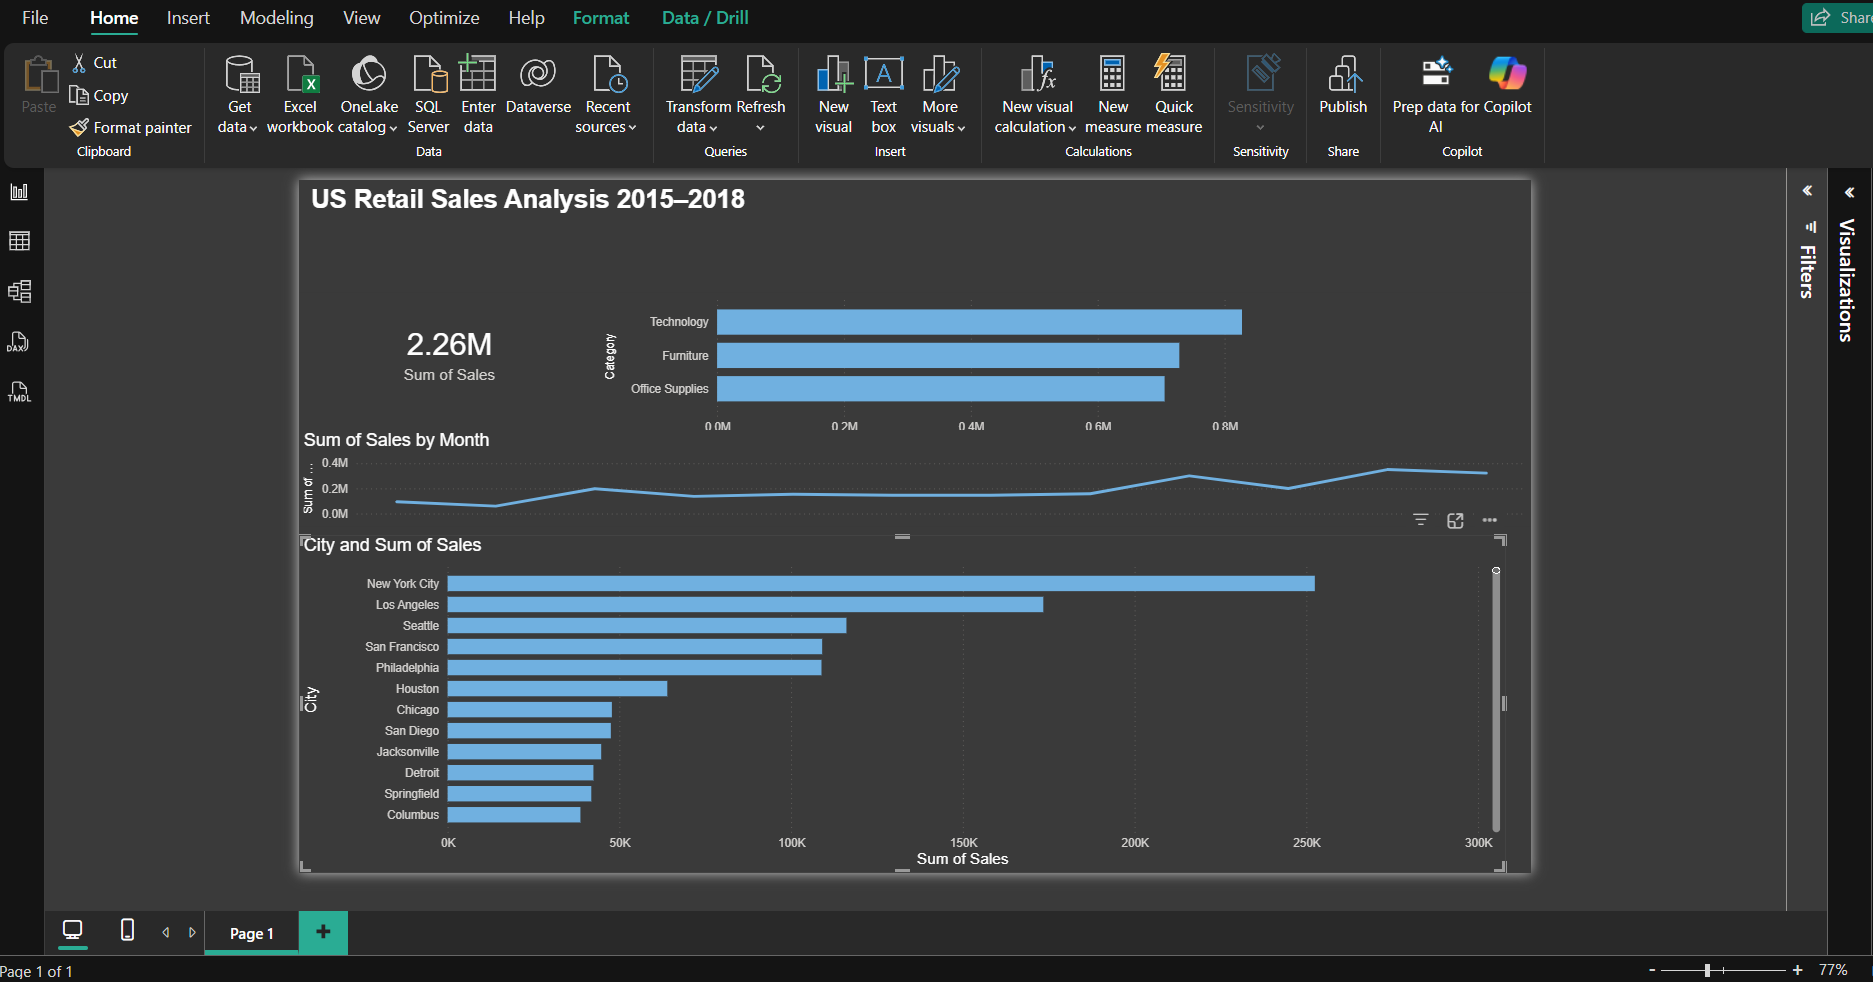

The page's visual inventory and layout, read from the dashboard file:
{"tool":"powerbi","page":{"name":"Page 1","canvas":[1280,720],"ordinal":0},"visuals":[{"type":"card","title":"total sales","fields":{"Values":["Sum(train.Sales)"]},"box":[0,87,313,163.6],"z":0},{"type":"clusteredBarChart","title":" Sales by Category","fields":{"Category":["train.Category"],"Y":["Sum(train.Sales)"]},"box":[313,87,733.8,196.1],"z":1000},{"type":"lineChart","fields":{"Category":["train.Order Date.Variation.Date Hierarchy.Year","train.Order Date.Variation.Date Hierarchy.Quarter","train.Order Date.Variation.Date Hierarchy.Month","train.Order Date.Variation.Date Hierarchy.Day"],"Y":["Sum(train.Sales)"]},"box":[0,260,1280,100],"z":2000},{"type":"clusteredBarChart","title":" City and Sum of Sales","fields":{"Category":["train.City"],"Y":["Sum(train.Sales)"]},"box":[0,368.8,1253.2,350.6],"z":3000},{"type":"textbox","box":[0,0,1280.5,116.9],"z":3001}]}

Visuals, with their boxes on the page's 1280x720 design canvas (x1, y1, x2, y2). These are canvas units, not pixel positions in the 1873x982 screenshot, which may show the page scaled, cropped or inside an application window:
"total sales" card: (left=0, top=87, right=313, bottom=251)
" Sales by Category" clusteredBarChart: (left=313, top=87, right=1047, bottom=283)
lineChart - train.Order Date.Variation.Date Hierarchy.Year x train.Order Date.Variation.Date Hierarchy.Quarter: (left=0, top=260, right=1280, bottom=360)
" City and Sum of Sales" clusteredBarChart: (left=0, top=369, right=1253, bottom=719)
textbox: (left=0, top=0, right=1280, bottom=117)
